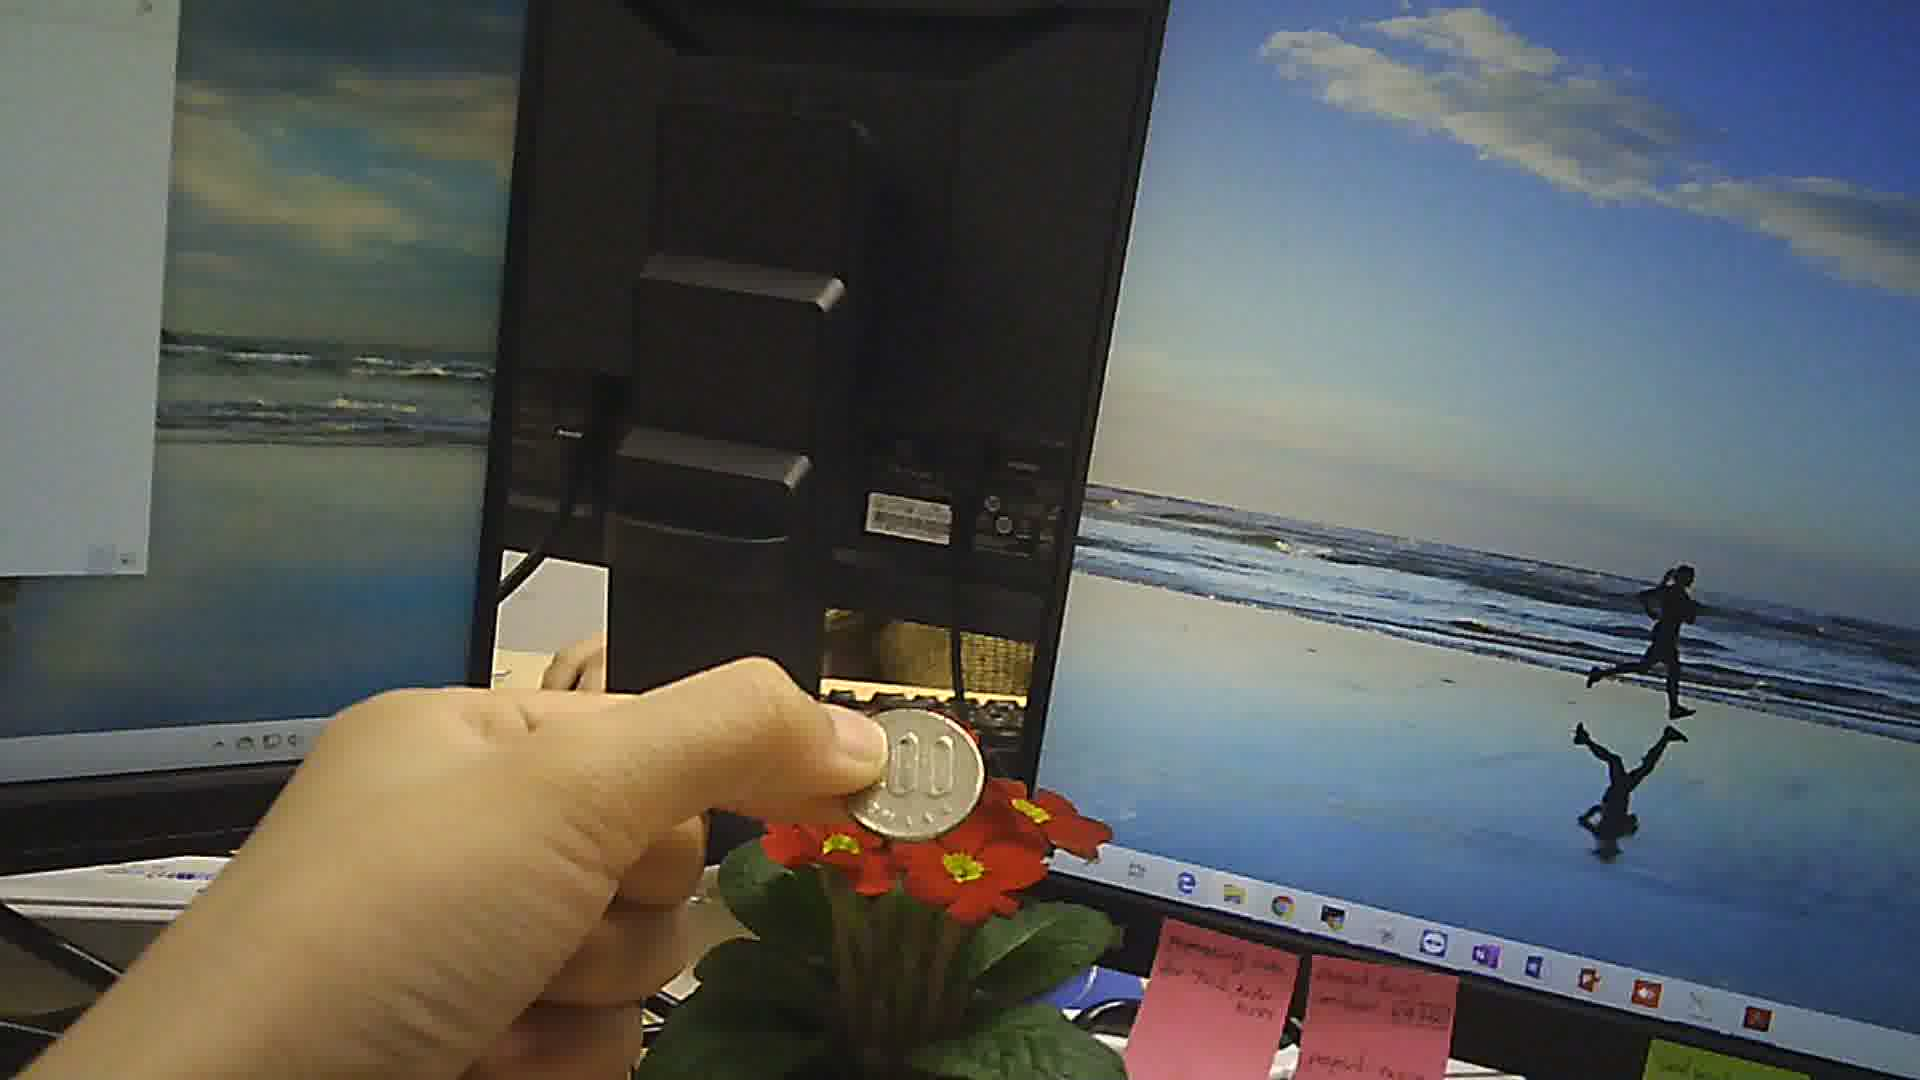100 Yen: (837, 698, 975, 836)
